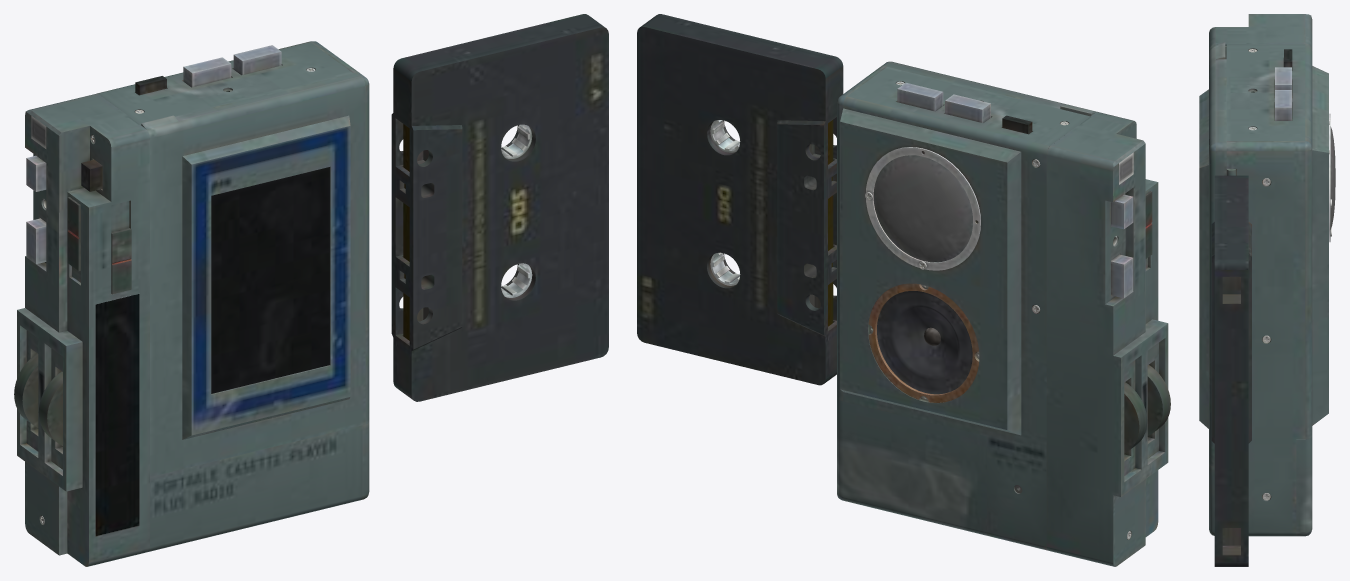
The picture shows the model from 3 angles, left to right: view 1: azimuth 30°, elevation 25°; view 2: azimuth 150°, elevation 25°; view 3: azimuth 270°, elevation 25°; orthographic projection. The views are drawn at different scales.
Parts seen in each view (by area): view 1: portable_cassette_player, portable_cassette_player_lid, portable_cassette_player_casette; view 2: portable_cassette_player, portable_cassette_player_casette, portable_cassette_player_lid; view 3: portable_cassette_player, portable_cassette_player_casette, portable_cassette_player_lid.
Boxes of the visible parts, left/top/right/bottom form: portable_cassette_player: left=14, top=41, right=369, bottom=566; portable_cassette_player_lid: left=141, top=72, right=369, bottom=476; portable_cassette_player_casette: left=391, top=14, right=608, bottom=401; portable_cassette_player: left=837, top=66, right=1170, bottom=566; portable_cassette_player_casette: left=637, top=14, right=843, bottom=385; portable_cassette_player_lid: left=881, top=61, right=1097, bottom=116; portable_cassette_player: left=1209, top=14, right=1335, bottom=536; portable_cassette_player_casette: left=1211, top=175, right=1251, bottom=566; portable_cassette_player_lid: left=1199, top=42, right=1235, bottom=466.
Bounding box in the file's own units: 0.1723 × 0.1303 × 0.0397.
2 materials, 2 textured.
